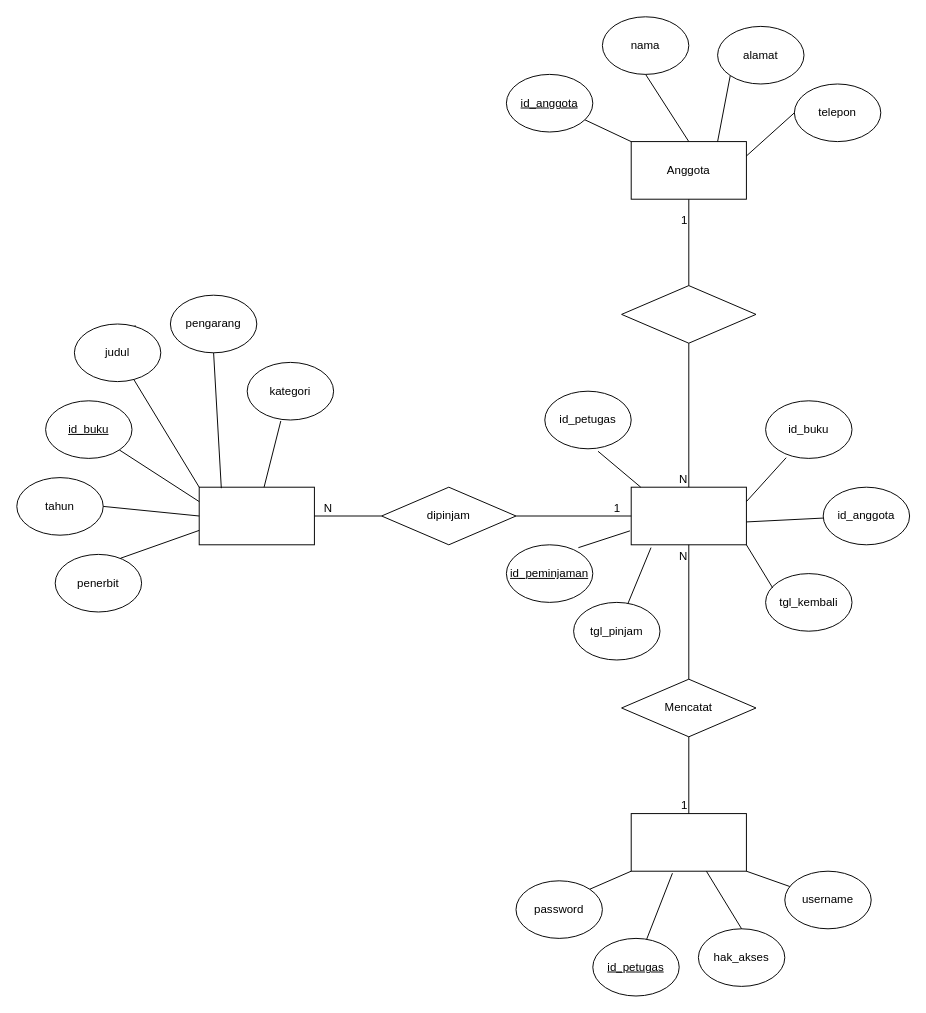
Some shapes in this 926 by 1013 pixel diagram are drawn without their labels. Here are the shapes that lost their labels. From the top down, the box of each, then its label:
(621, 285, 756, 343): meminjam
(198, 486, 314, 545): Buku
(630, 486, 746, 545): Peminjaman
(630, 813, 746, 871): Petugas
